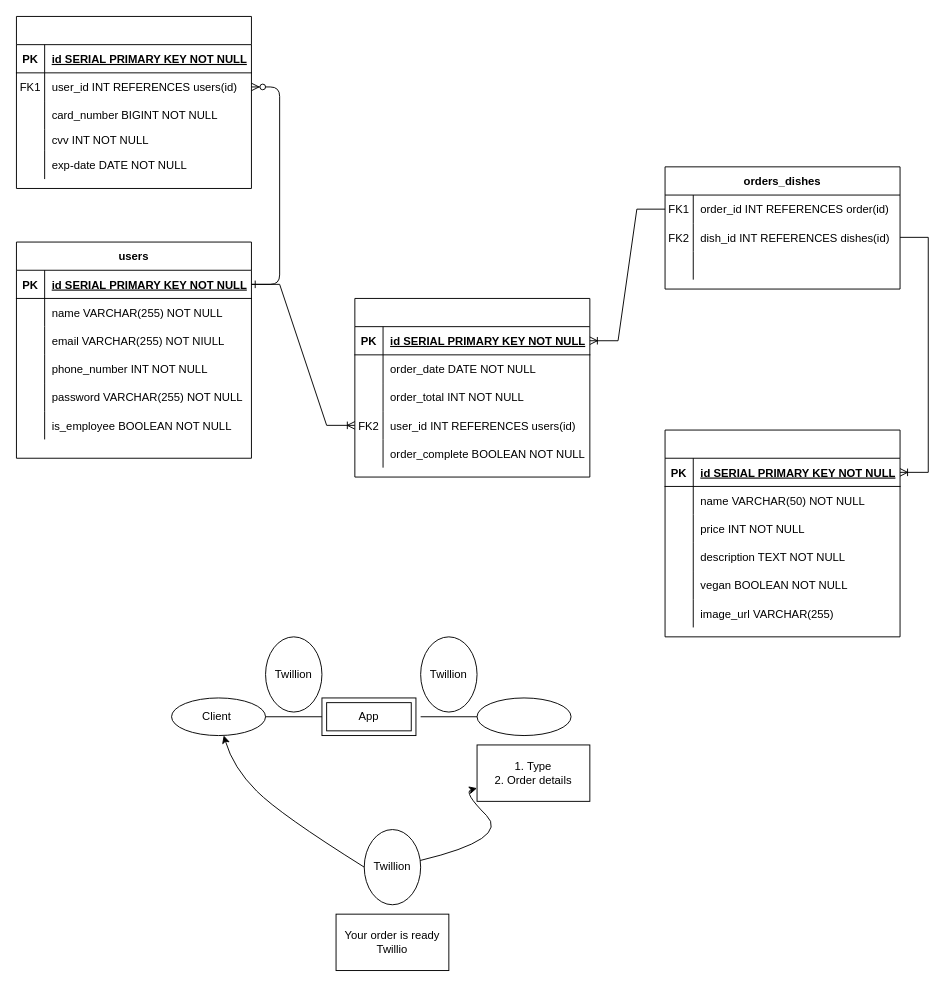
Image size: 952x987. Some labels were removed from this diagram. The shapes that lost their labels are listed below. From the top down, each one's box as (x1, y1, x2, y2) in pixels, then its label:
(16, 16, 251, 188): payment_details
(354, 298, 590, 477): orders
(664, 429, 900, 637): dishes
(476, 697, 571, 736): Restaurant
